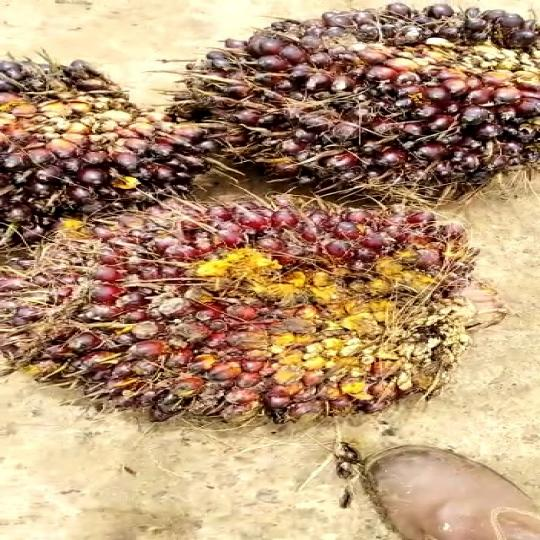kurang masak: (0, 196, 462, 406), (154, 0, 540, 204), (0, 53, 185, 236)
